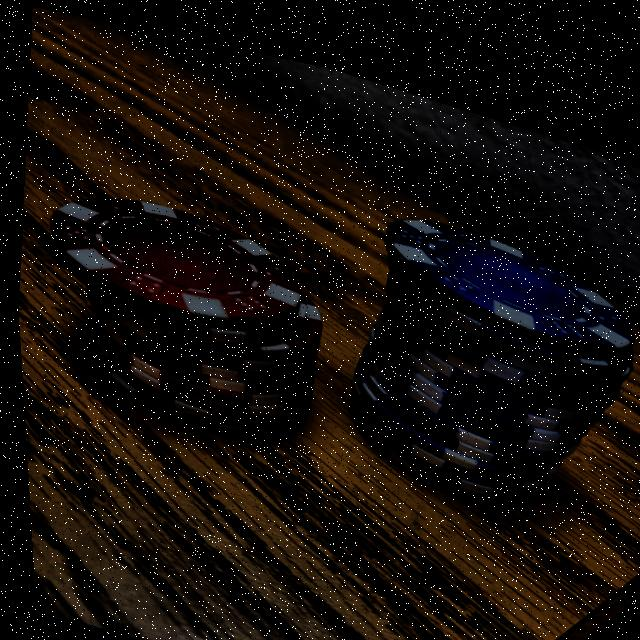Chip: (304, 162, 640, 543), (21, 149, 353, 472)
